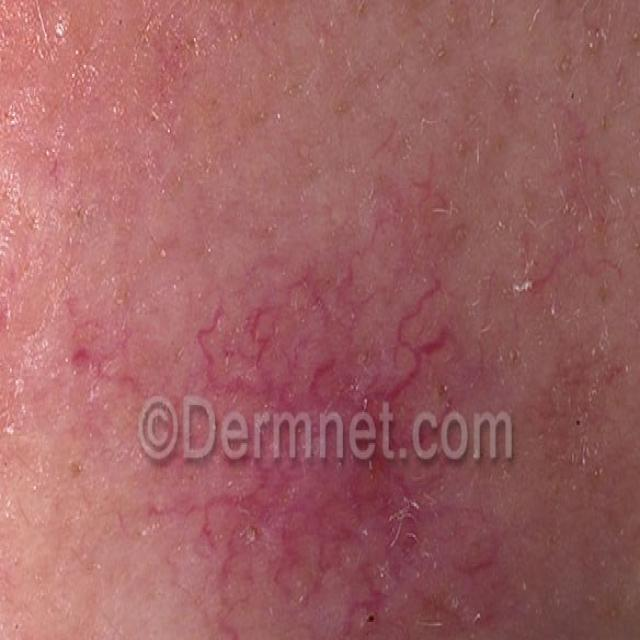Vascular Tumors: (81, 182, 480, 640)
